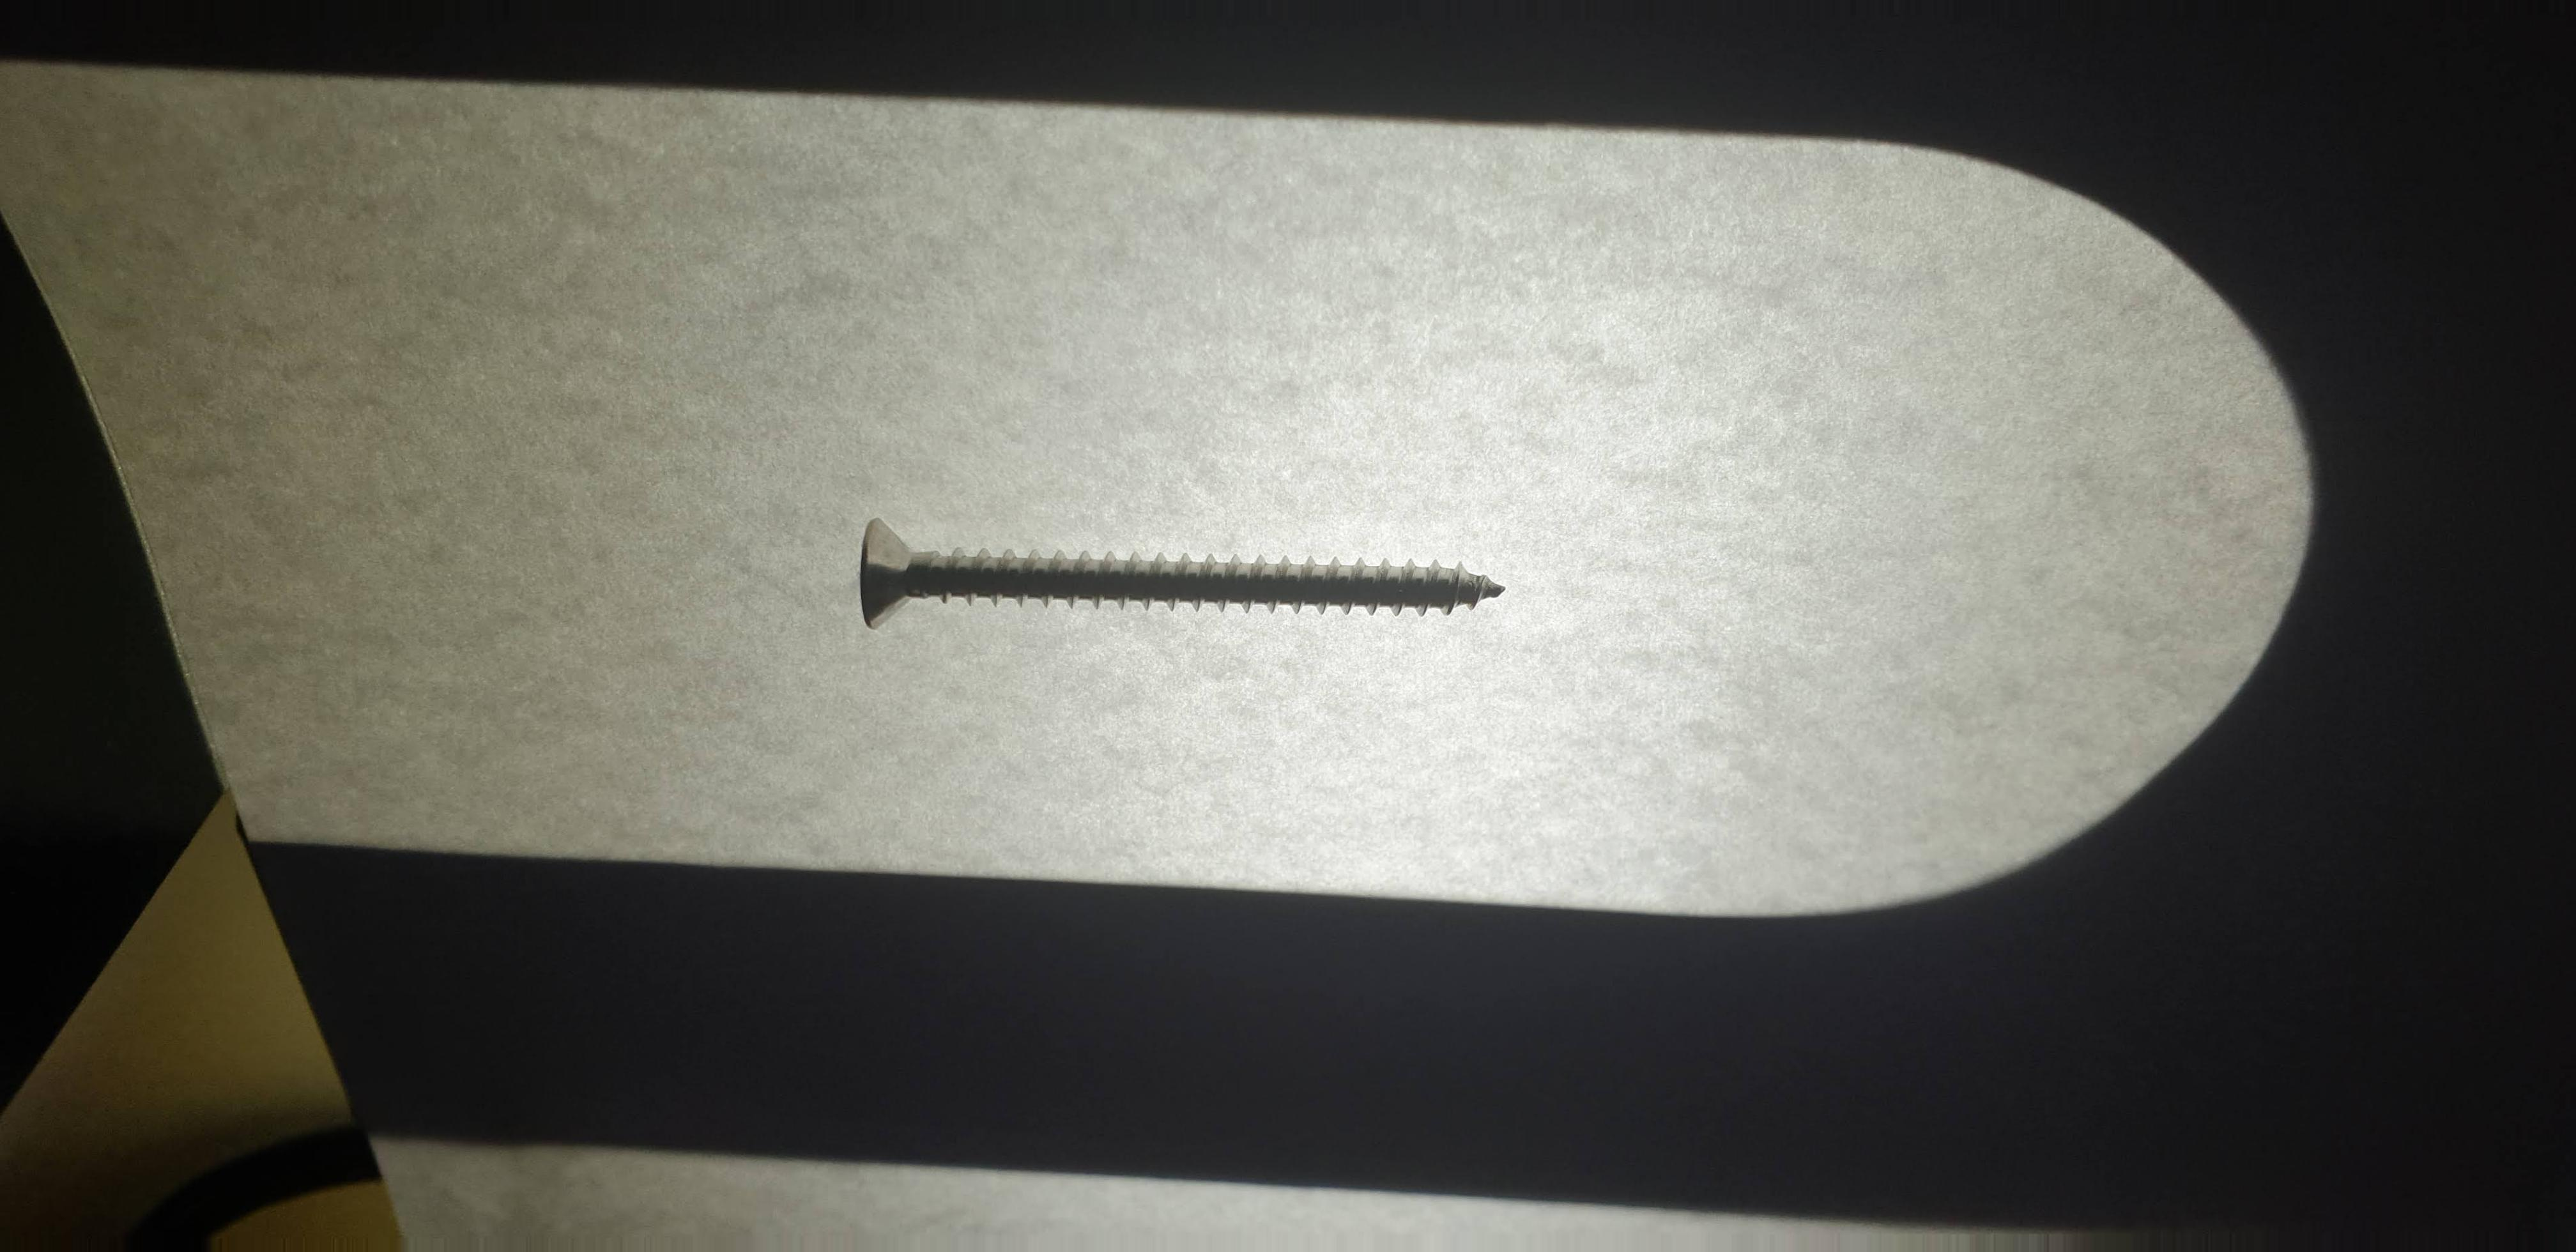S001: (810, 462, 1556, 685)
